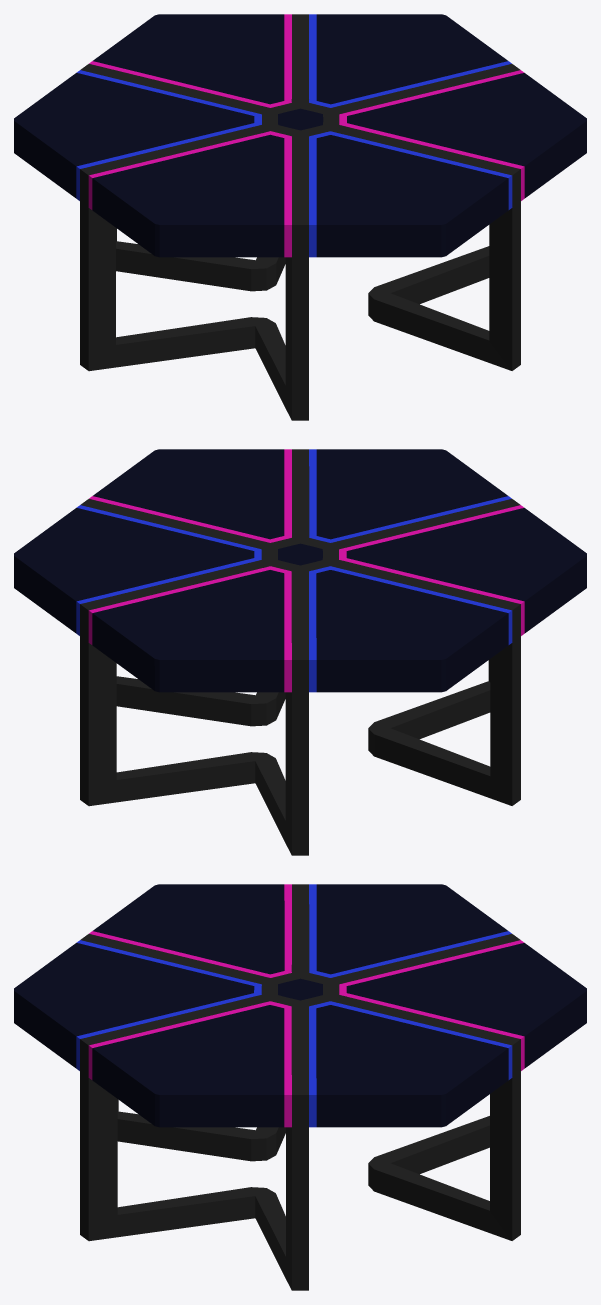
File: Bottle_Table.fbx
The picture shows the model from 3 angles, top to bottom: view 1: azimuth 30°, elevation 25°; view 2: azimuth 150°, elevation 25°; view 3: azimuth 270°, elevation 25°; orthographic projection.
Parts seen in each view (by area): view 1: Cylinder.001; view 2: Cylinder.001; view 3: Cylinder.001.
Part boxes in pixels (<box>): Cylinder.001: <box>14,14,586,420</box>; Cylinder.001: <box>14,449,586,855</box>; Cylinder.001: <box>14,884,586,1290</box>.
Size of the model in its own units: 173 by 75 by 199.
